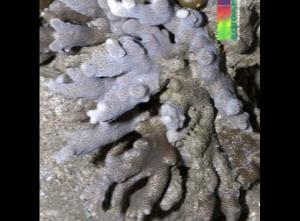bleached_corals: (39, 0, 260, 221)
